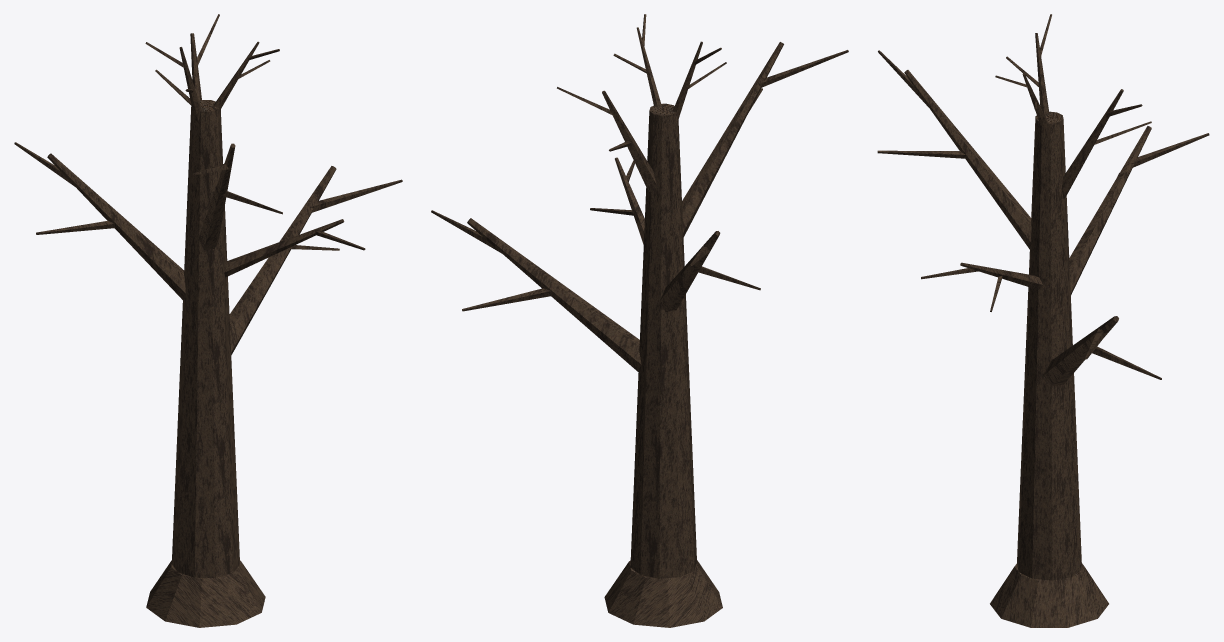
Rendered from tree_dead_a.glb.
3 renders of one model, left to right at view 1: azimuth 30°, elevation 25°; view 2: azimuth 150°, elevation 25°; view 3: azimuth 270°, elevation 25°, orthographic. The views are drawn at different scales.
Visible parts, largest first — view 1: tree_dead_a; view 2: tree_dead_a; view 3: tree_dead_a.
Part boxes in pixels (<box>): tree_dead_a: <box>14,14,402,627</box>; tree_dead_a: <box>431,14,848,627</box>; tree_dead_a: <box>877,14,1209,627</box>.
Bounding box in the file's own units: 3.82 × 6.01 × 3.22.
1 material, 1 textured.
